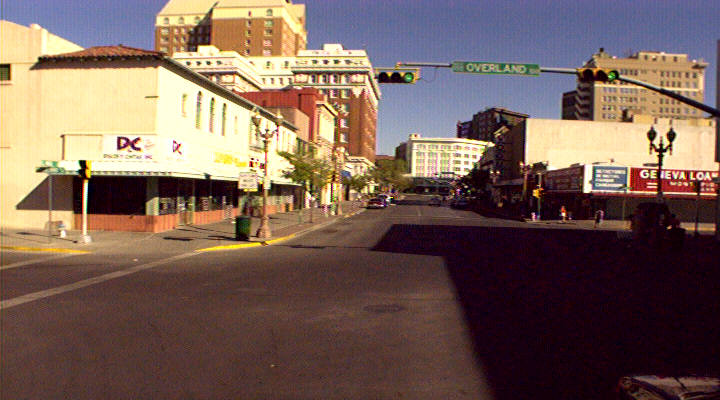Ramp: (47, 231, 224, 259), (530, 218, 624, 228)
